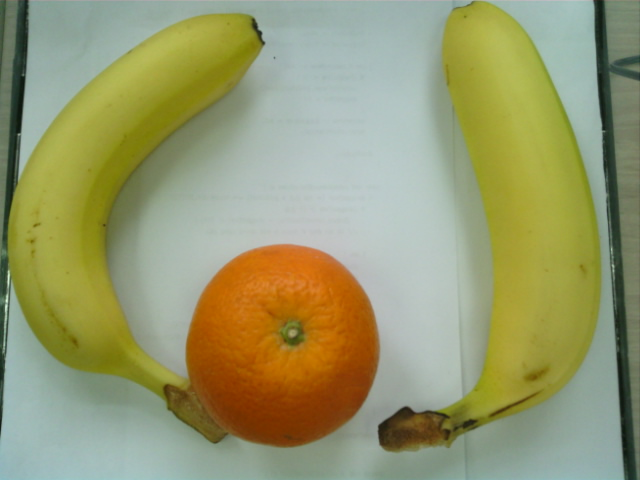normal_banana: (8, 17, 265, 385), (441, 7, 603, 439)
normal_orange: (189, 243, 380, 452)
